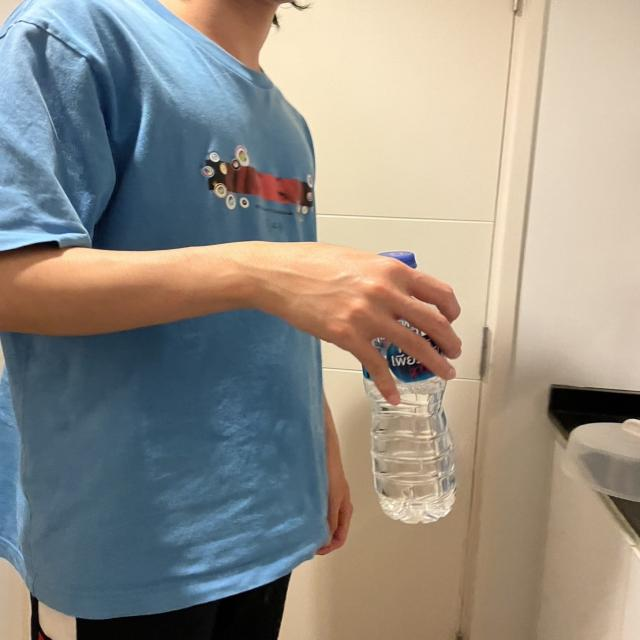bottle: (357, 246, 463, 525)
